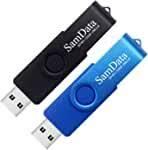Flash-drive: (3, 0, 147, 150)
